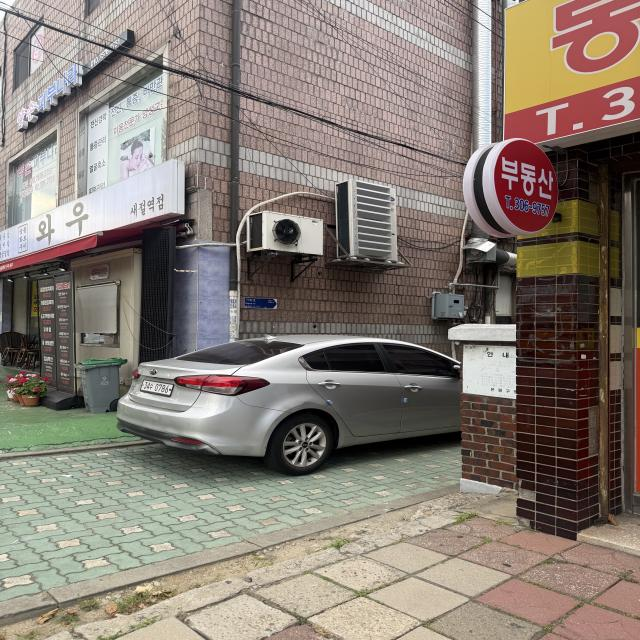car: (106, 316, 459, 493)
